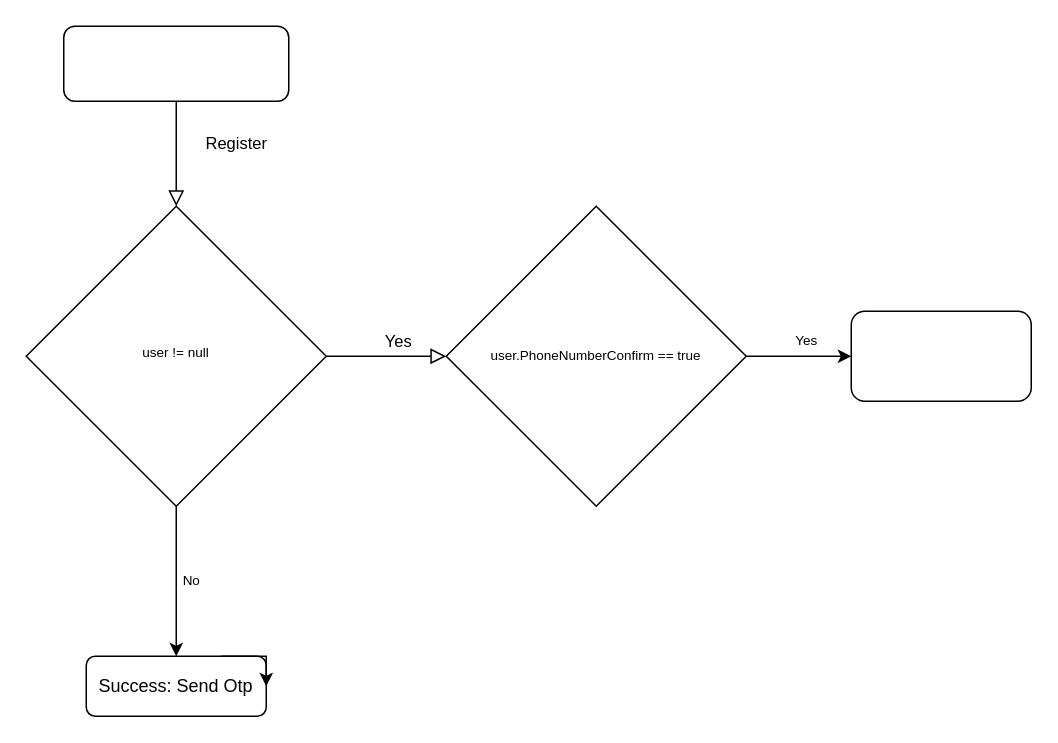
Image size: 1058x743. Some labels were removed from this diagram. Each missing label, with the centre of its shape:
Failed: User exist: the point at 940,355
username: string: the point at 175,63
